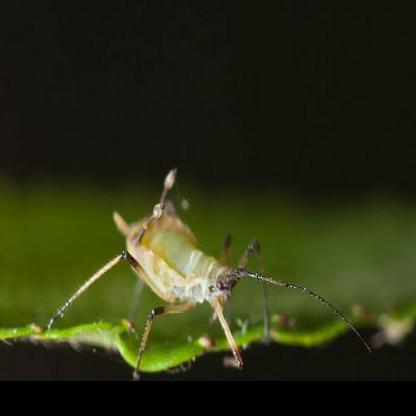aphid: (57, 170, 363, 362)
